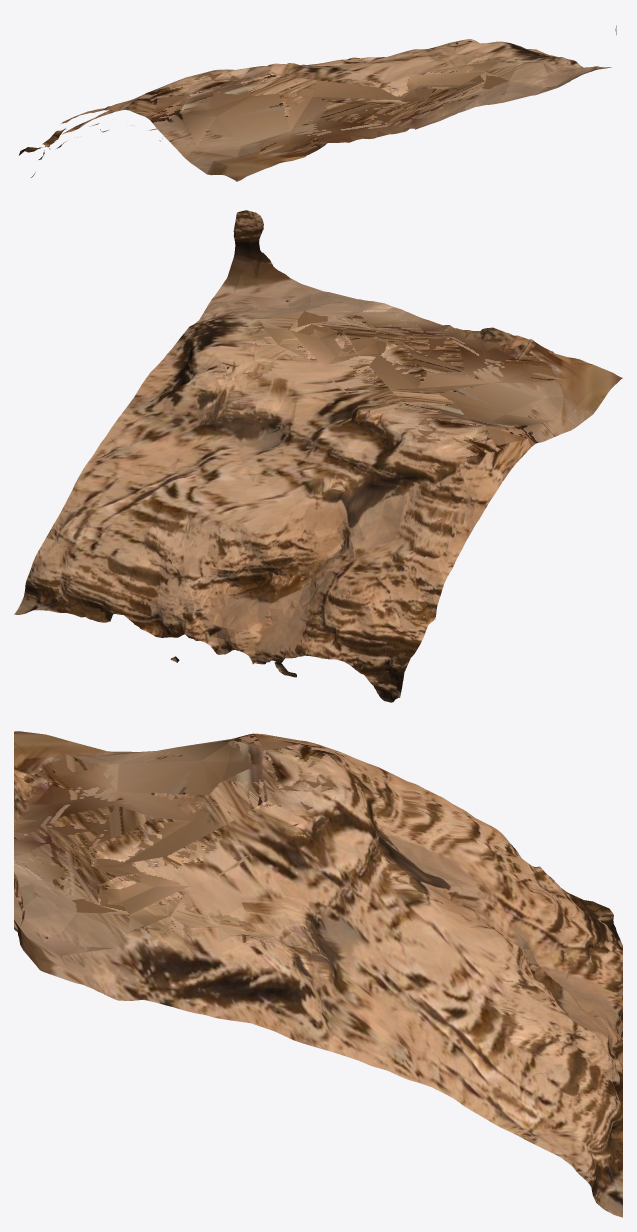
The picture shows the model from 3 angles, top to bottom: view 1: azimuth 30°, elevation 25°; view 2: azimuth 150°, elevation 25°; view 3: azimuth 270°, elevation 25°; orthographic projection. The views are drawn at different scales.
Bounding box in the file's own units: 1.04 × 0.6517 × 1.04.
Materials: 3 (3 with a texture image).
